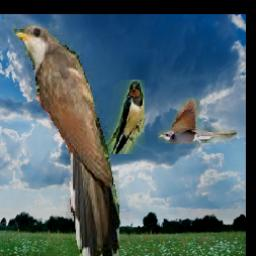Cuckoo: (12, 22, 119, 256), (158, 99, 237, 144)
Swallow: (104, 80, 146, 154)
